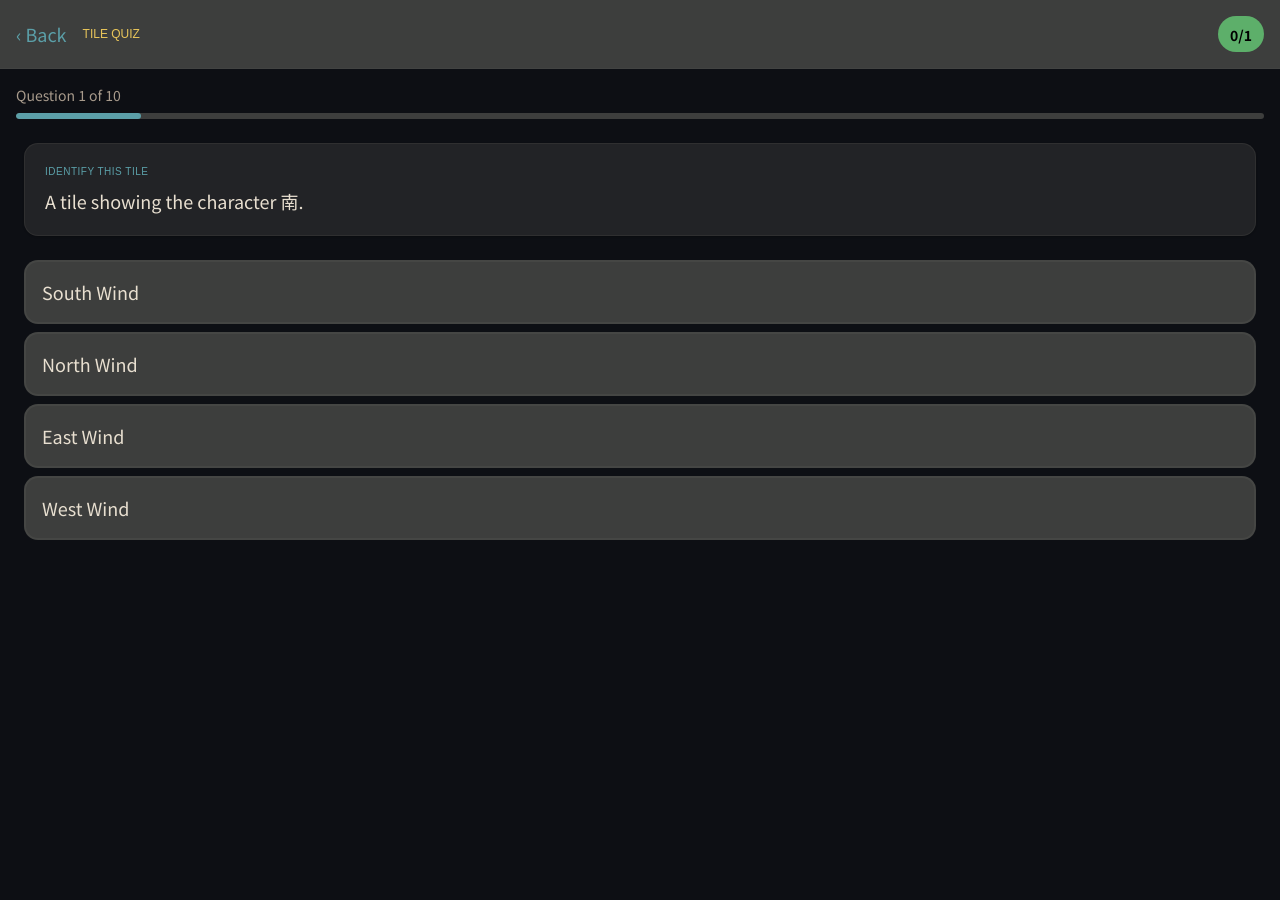
TileQuiz › clicking an answer option shows educational feedback
Click the button "South Wind" at (91, 292), box left=24, top=260, right=1256, bottom=324
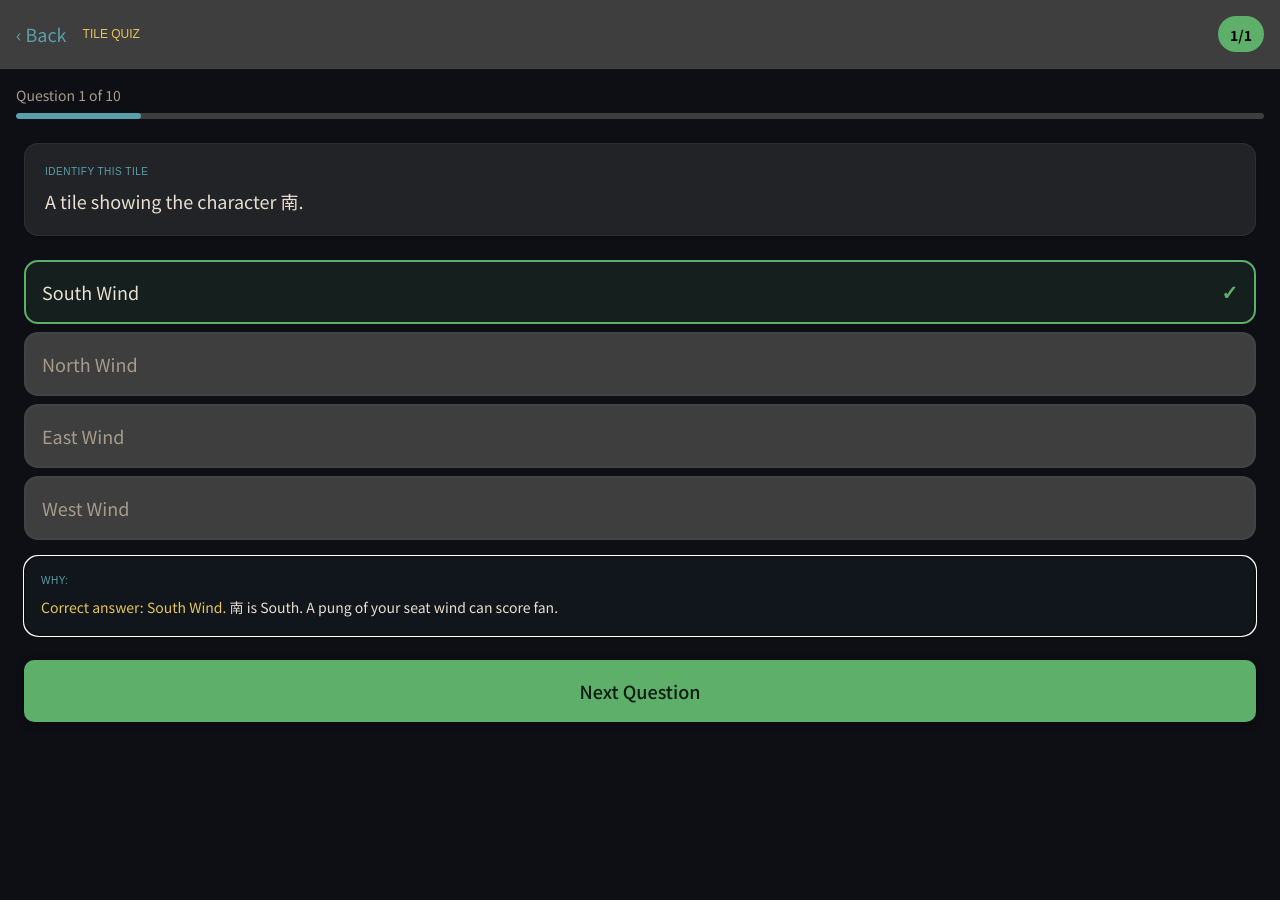
Check: the text "WHY:" is shown, box left=41, top=575, right=69, bottom=586
Check: the text "Correct answer: South Wind." is shown, box left=41, top=597, right=226, bottom=617
Check: the button "Next Question" is shown, box left=24, top=660, right=1256, bottom=722
